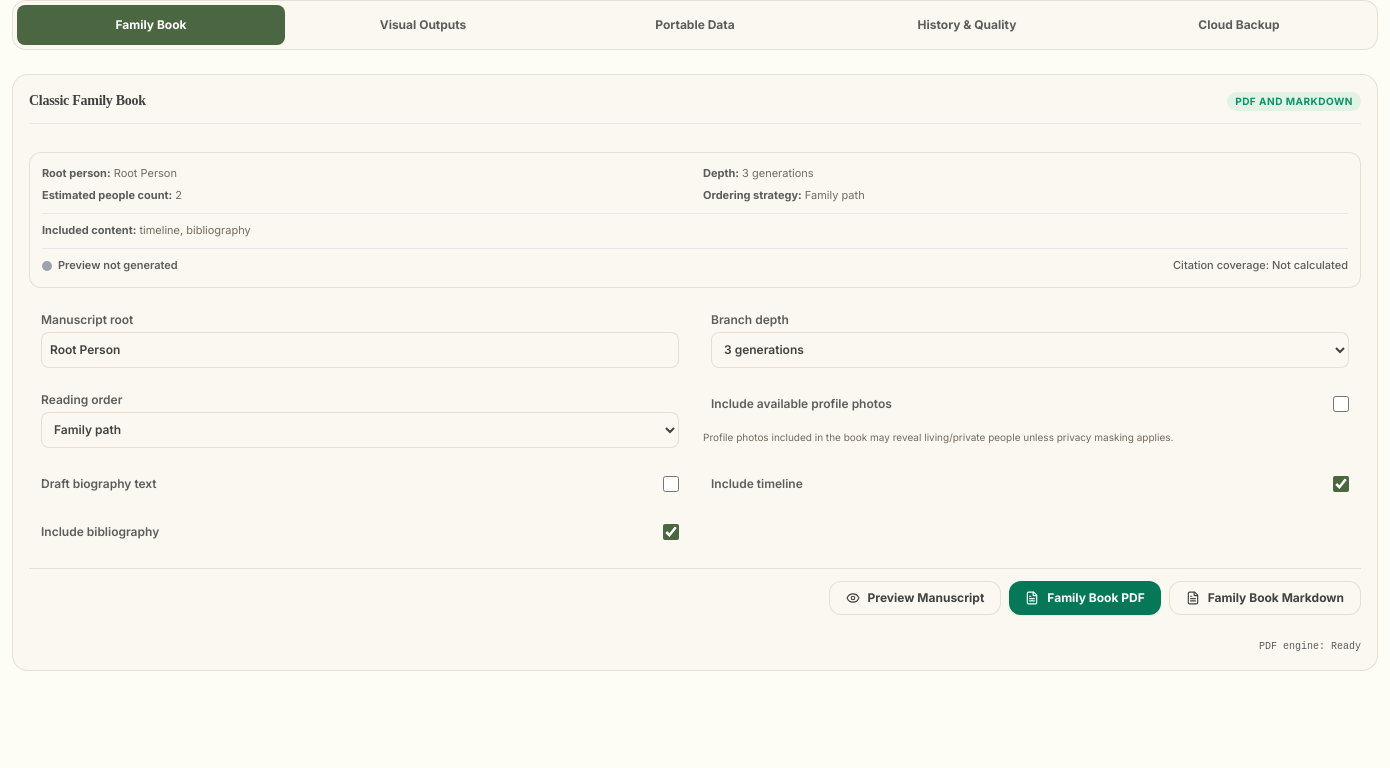
ExportCloudPanel manuscript preview › Publishing History and Quality Panel › renders successful export history with templates, health, citations, and config options
The image size is (1390, 768).
Click the tab "History & Quality" at (967, 25), box [833,5,1101,45]
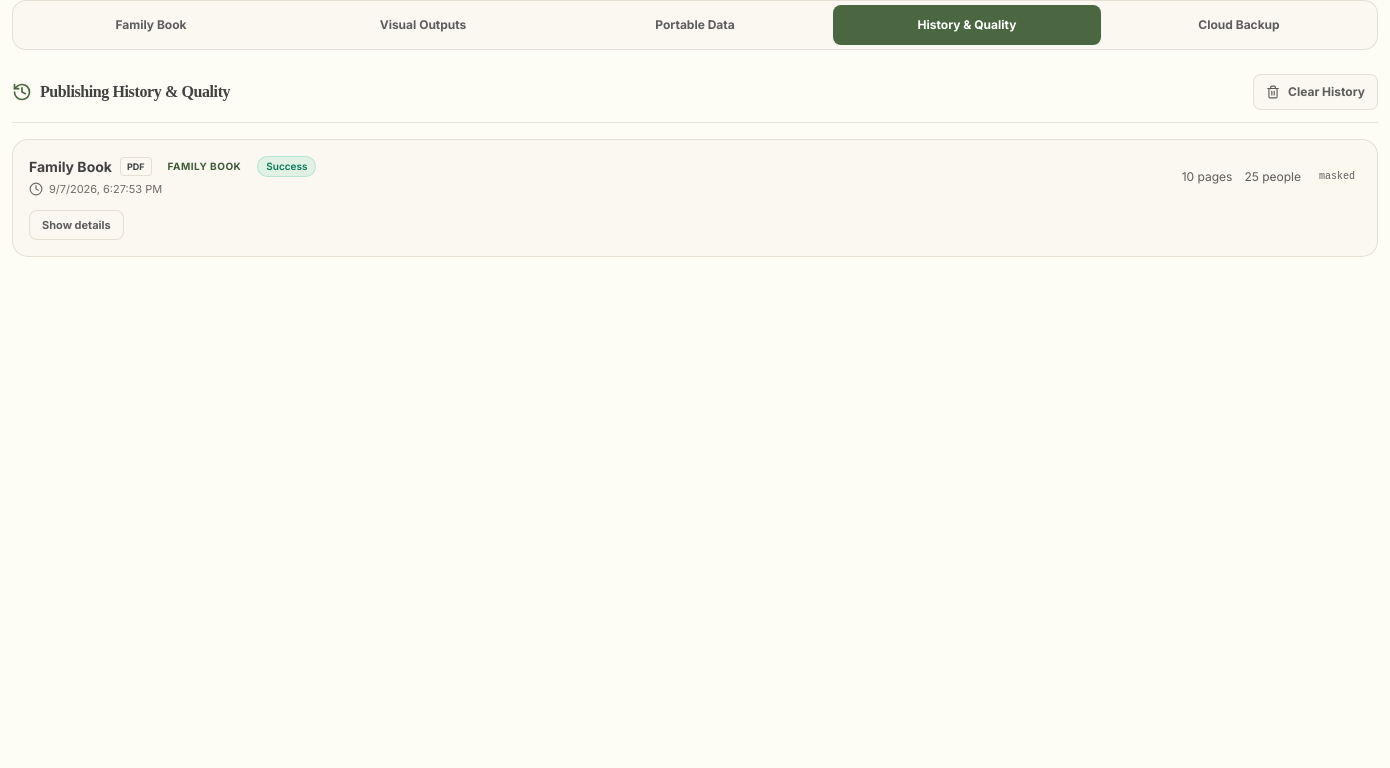
Expected: the text "Success" is shown, [257,156,316,177]
Expected: the text "10 pages" is shown, [1182,169,1232,185]
Expected: the text "25 people" is shown, [1244,169,1301,185]
Click the button "Show details" at (76, 225), box [29,210,124,240]
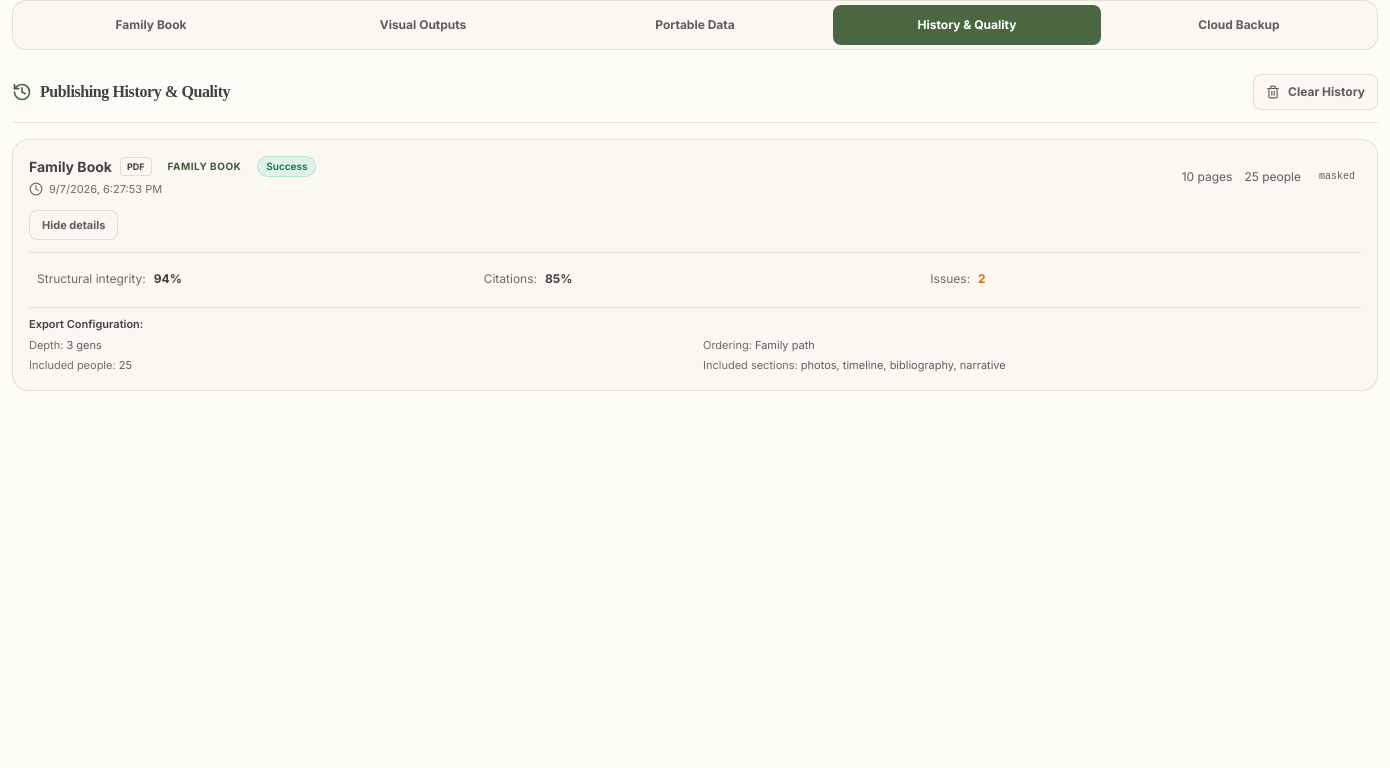
Expected: the text "Structural integrity:" is shown, [37,271,146,287]
Expected: the text "94%" is shown, [154,271,182,287]
Expected: the text "Citations:" is shown, [484,271,537,287]
